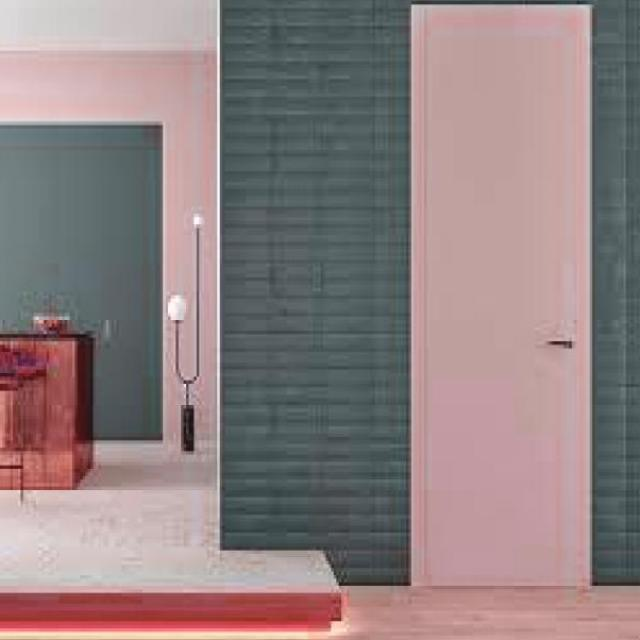door: (409, 2, 594, 588)
